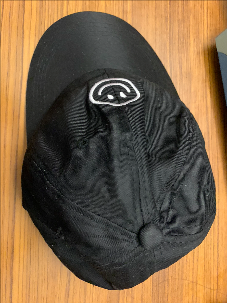Nonfood: (20, 9, 227, 290)
